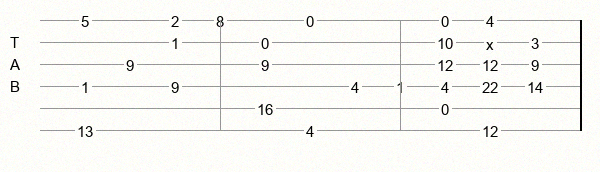0: (261, 35, 273, 50), (306, 13, 318, 28), (441, 13, 453, 28), (441, 101, 453, 116)
1: (81, 79, 93, 94), (171, 35, 183, 50), (396, 79, 408, 94)
10: (437, 35, 457, 50)
12: (437, 57, 457, 72), (482, 123, 502, 138), (482, 57, 502, 72)
13: (77, 123, 97, 138)
14: (527, 79, 547, 94)
16: (257, 101, 277, 116)
2: (171, 13, 183, 28)
22: (482, 79, 502, 94)
3: (531, 35, 543, 50)
4: (306, 123, 318, 138), (351, 79, 363, 94), (441, 79, 453, 94), (486, 13, 498, 28)
5: (81, 13, 93, 28)
8: (216, 13, 228, 28)
9: (126, 57, 138, 72), (171, 79, 183, 94), (261, 57, 273, 72), (531, 57, 543, 72)
x: (486, 36, 498, 48)
